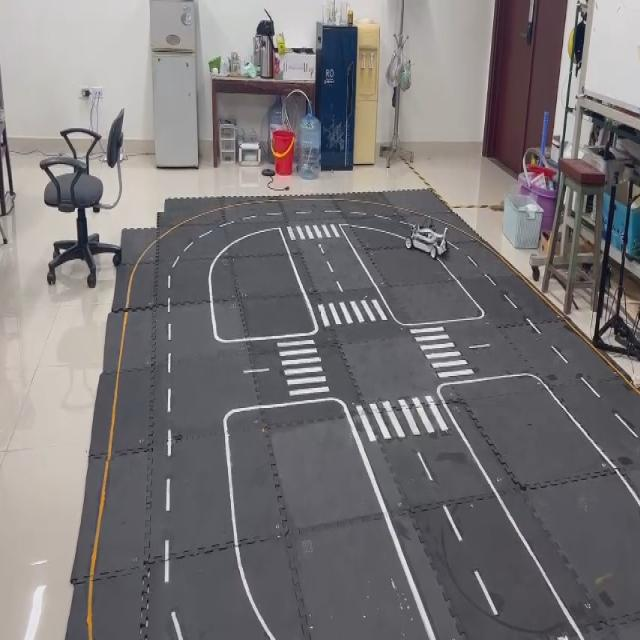SiCo-CAR: (404, 216, 449, 260)
